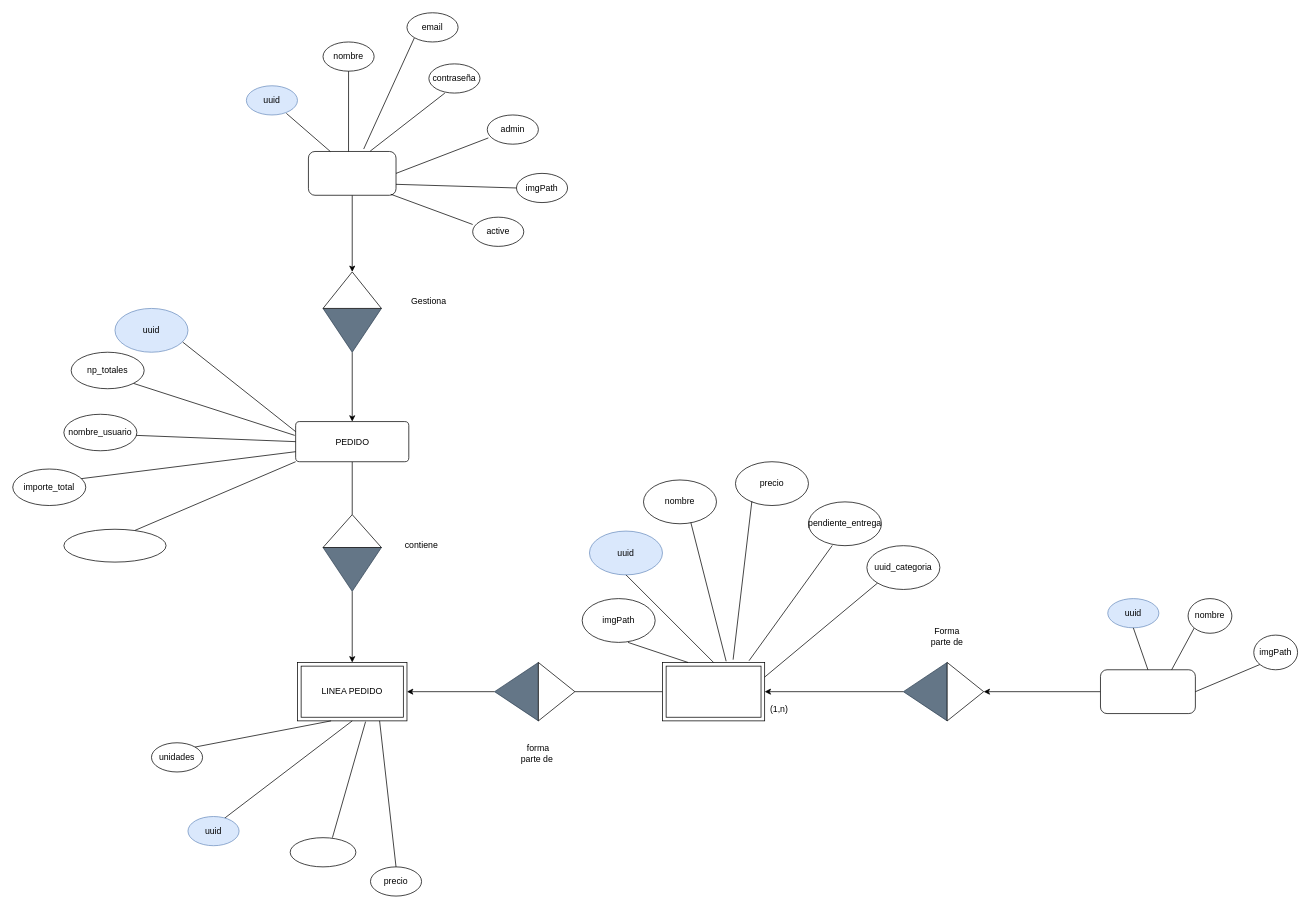
The diagram is 1310 pixels wide and 909 high, and some of its shapes have lost their labels. Here are the shapes that lost their labels. From the top down, the box of each, then its label:
(308, 151, 396, 195): DEPENDIENTE
(63, 529, 166, 562): np_pendiente_entrega
(662, 662, 765, 721): PRODUCTO
(1100, 669, 1195, 714): CATEGORIA
(289, 837, 356, 867): uuid_producto
